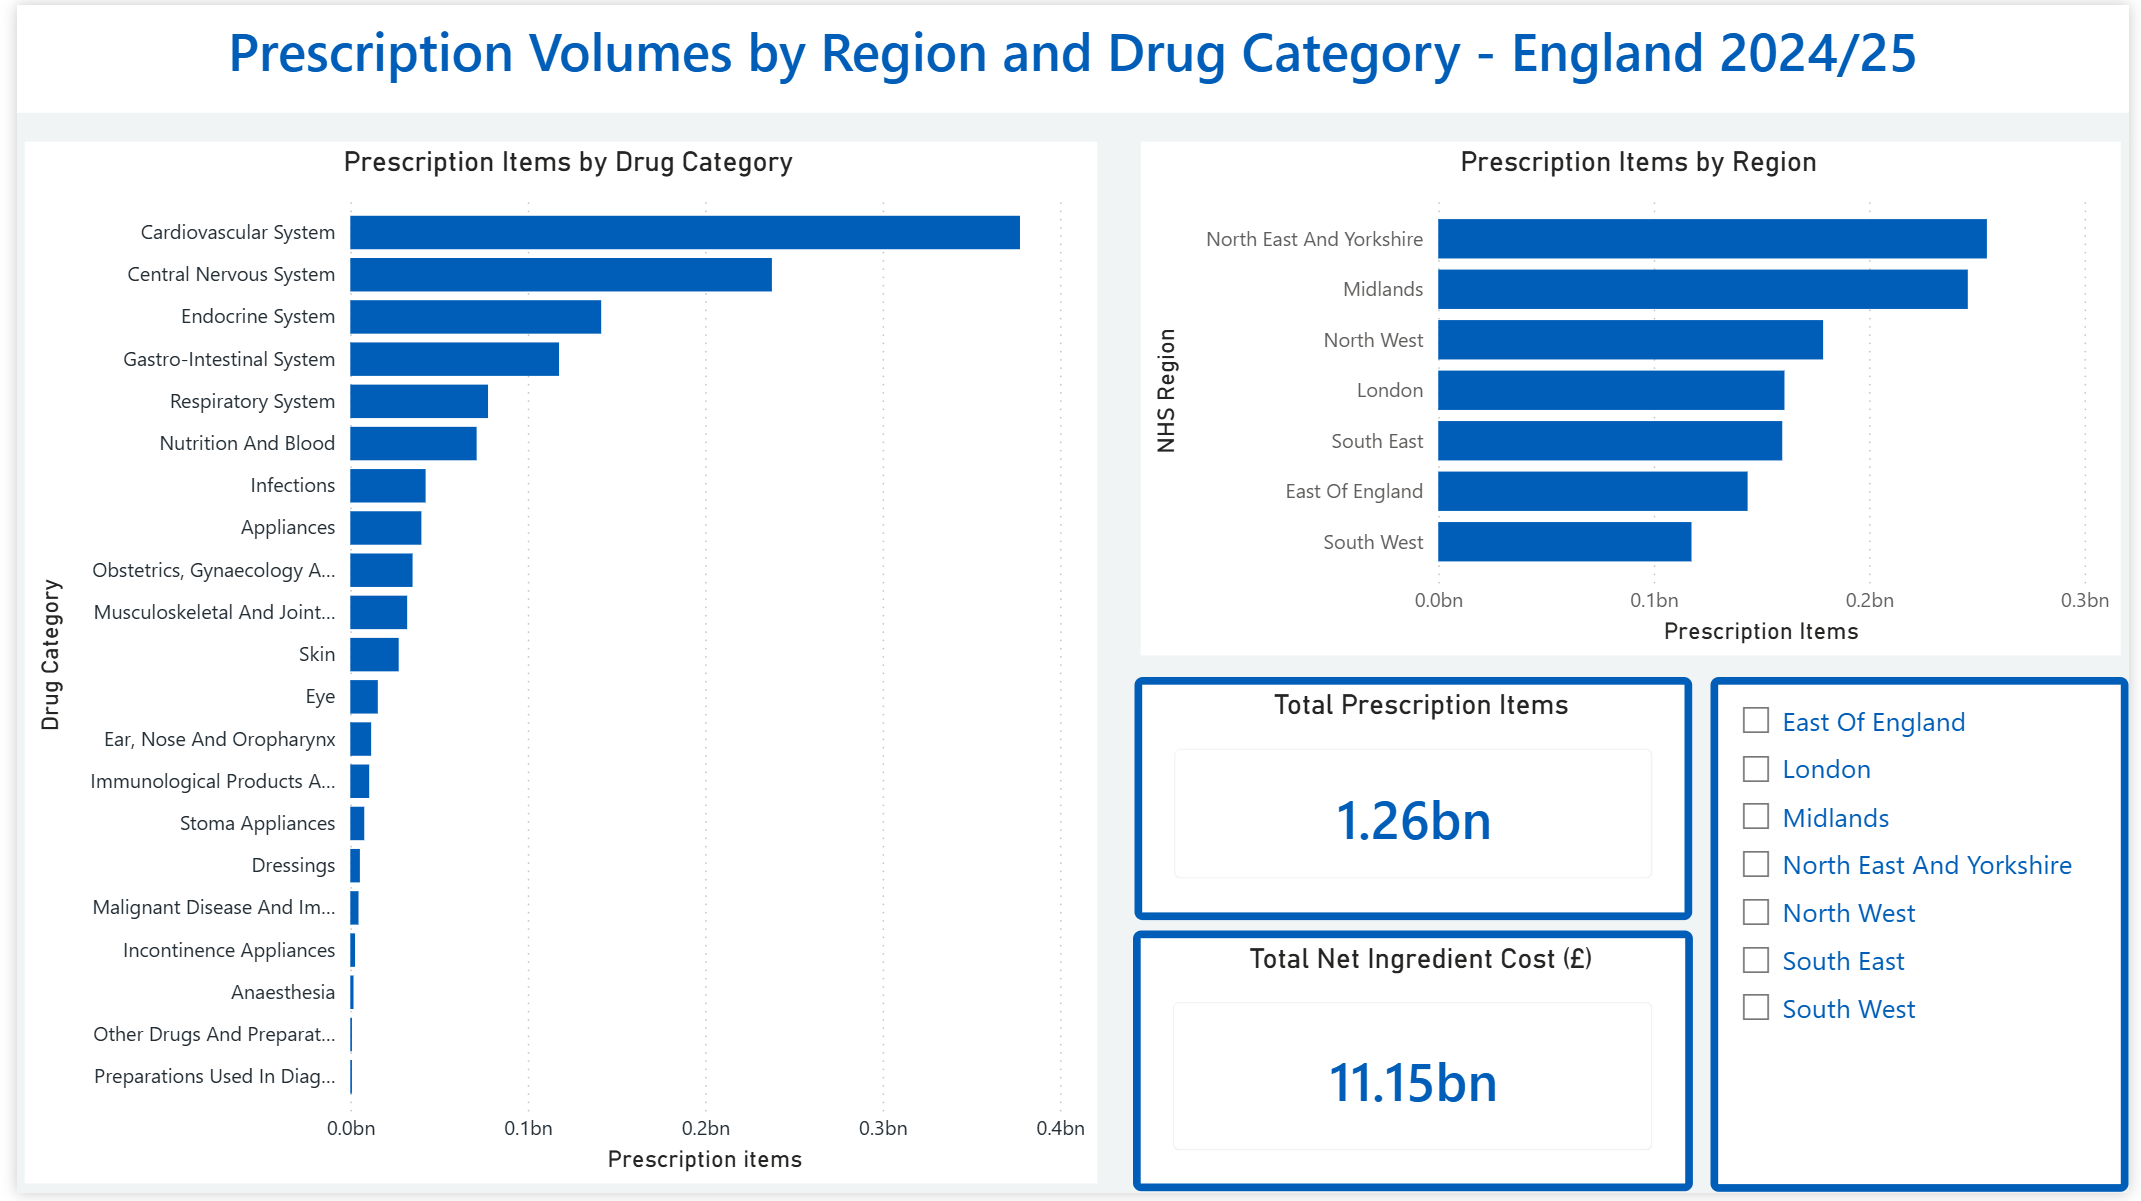

This screenshot's page, from the dashboard's own definition file:
{"tool":"powerbi","page":{"name":"Prescription Trends","canvas":[1280,720],"ordinal":2},"visuals":[{"type":"clusteredBarChart","title":"Prescription Items by Region","fields":{"Category":["prescriptions_by_region_bnf.region_name"],"Y":["Sum(prescriptions_by_region_bnf.total_items)"]},"box":[676.4,78.2,603.6,320.9],"z":0},{"type":"clusteredBarChart","title":"Prescription Items by Drug Category","fields":{"Category":["prescriptions_by_region_bnf.bnf_chapter"],"Y":["Sum(prescriptions_by_region_bnf.total_items)"]},"box":[0,78.2,659.1,640.9],"z":1000},{"type":"slicer","fields":{"Values":["prescriptions_by_region_bnf.region_name"]},"box":[1026.4,407.3,253.6,311.8],"z":2000},{"type":"textbox","box":[0,0,1280,65.5],"z":3000},{"type":"cardVisual","title":"Total Prescription Items","fields":{"Data":["Sum(prescriptions_regional_summary.total_items)"]},"box":[677.3,407.3,338.2,147.3],"z":4000},{"type":"cardVisual","title":"Total Net Ingredient Cost (£)","fields":{"Data":["Sum(prescriptions_regional_summary.total_nic)"]},"box":[676.4,560.9,339.1,158.2],"z":5000}]}

Visuals, with their boxes in screenshot pixels (x1, y1, x2, y2), scaled from the page's 1280x720 canvas onto the 2141x1201 screenshot:
"Prescription Items by Region" clusteredBarChart: left=1131, top=130, right=2140, bottom=666
"Prescription Items by Drug Category" clusteredBarChart: left=0, top=130, right=1102, bottom=1199
slicer - prescriptions_by_region_bnf.region_name: left=1717, top=679, right=2140, bottom=1199
textbox: left=0, top=0, right=2140, bottom=109
"Total Prescription Items" cardVisual: left=1133, top=679, right=1699, bottom=925
"Total Net Ingredient Cost (£)" cardVisual: left=1131, top=936, right=1699, bottom=1199
